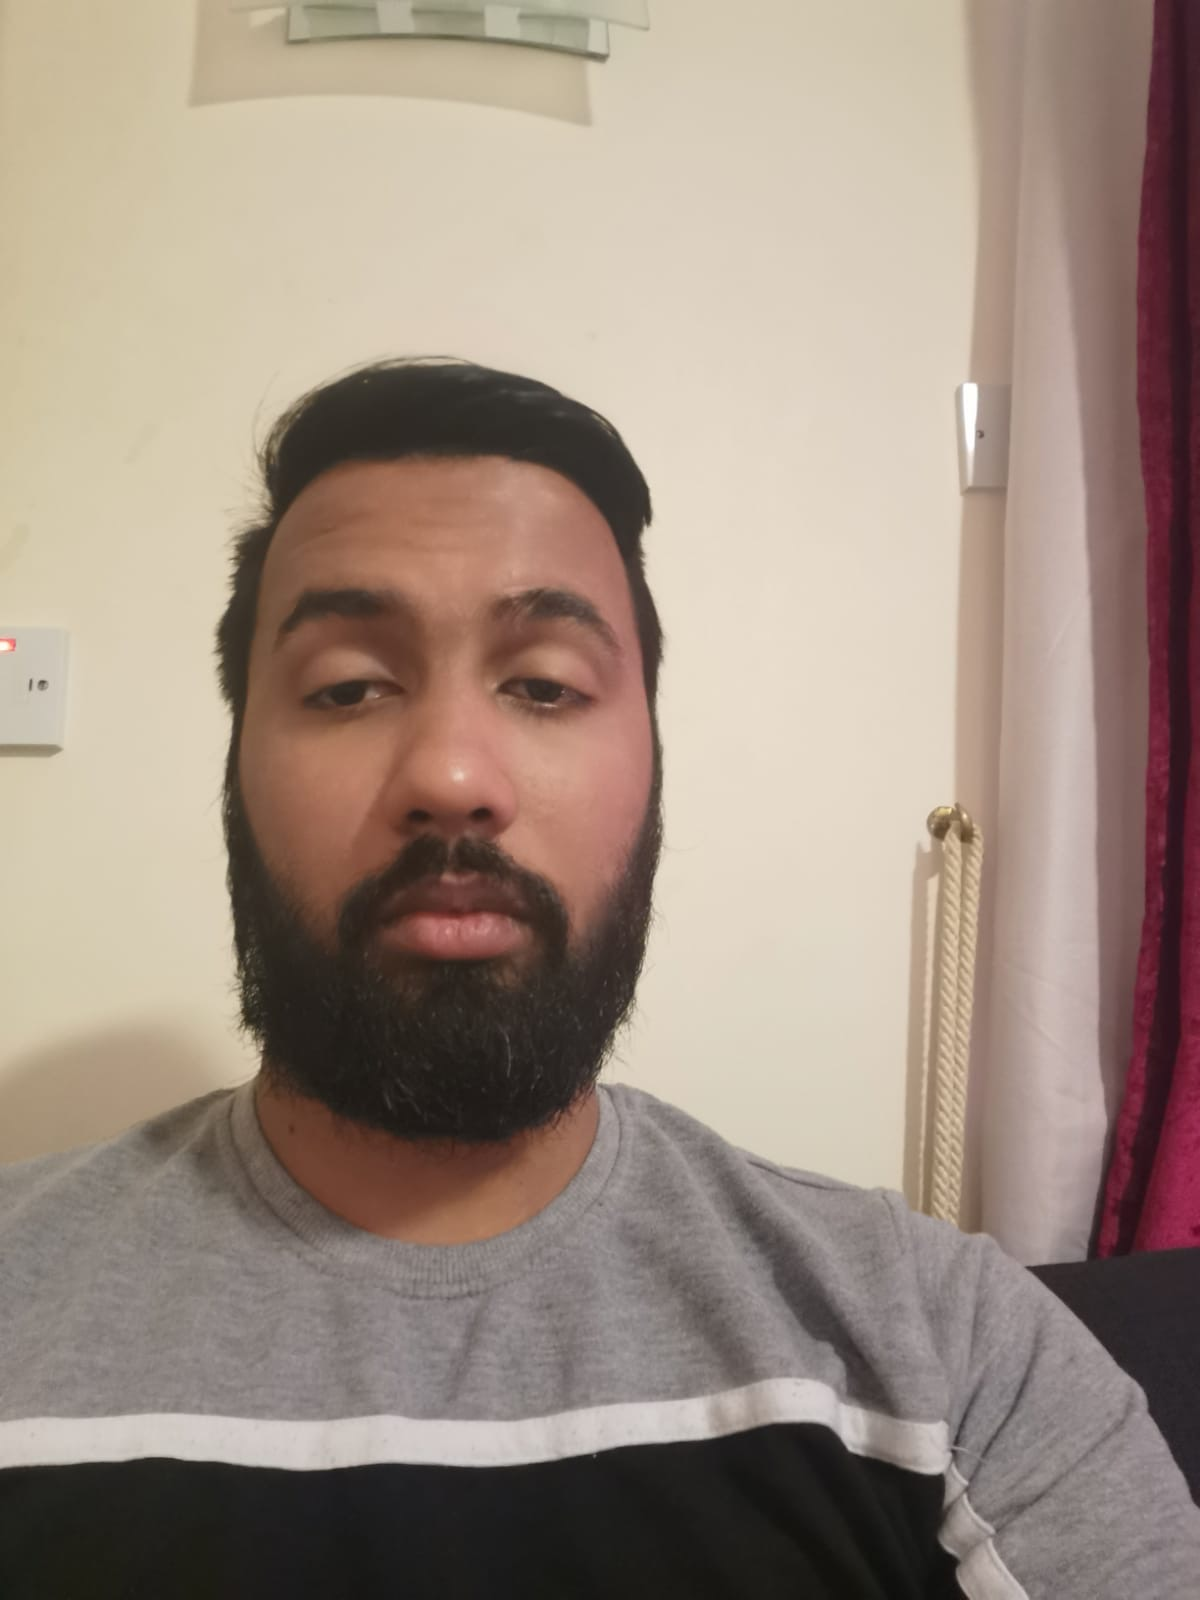Not Sleeping: (248, 622, 645, 755)
